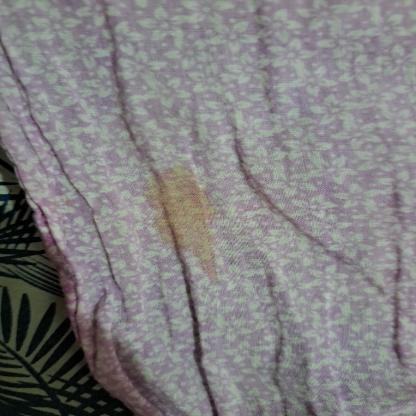spot: (99, 148, 238, 265)
